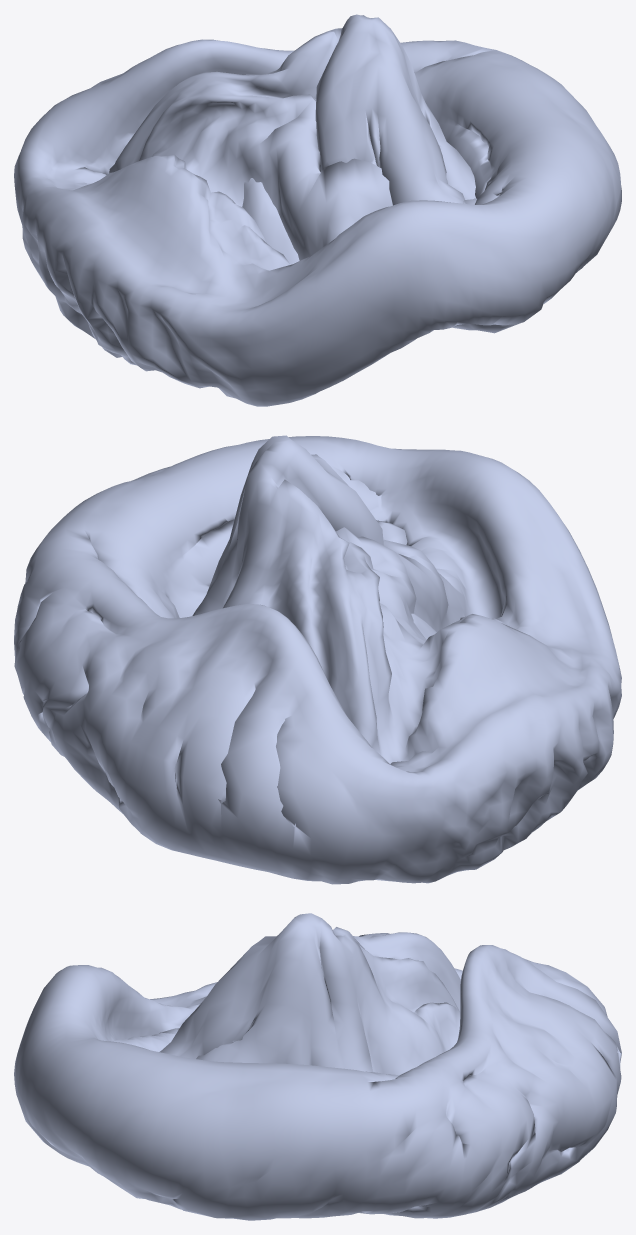
File: pile_02.glb
The picture shows the model from 3 angles, top to bottom: view 1: azimuth 30°, elevation 25°; view 2: azimuth 150°, elevation 25°; view 3: azimuth 270°, elevation 25°; orthographic projection. The views are drawn at different scales.
Parts seen in each view (by area): view 1: pile_02; view 2: pile_02; view 3: pile_02.
Part boxes in pixels (<box>): pile_02: <box>14,14,621,406</box>; pile_02: <box>14,435,621,884</box>; pile_02: <box>14,913,621,1220</box>.
Size of the model in its own units: 5.14 by 3.06 by 5.62.
